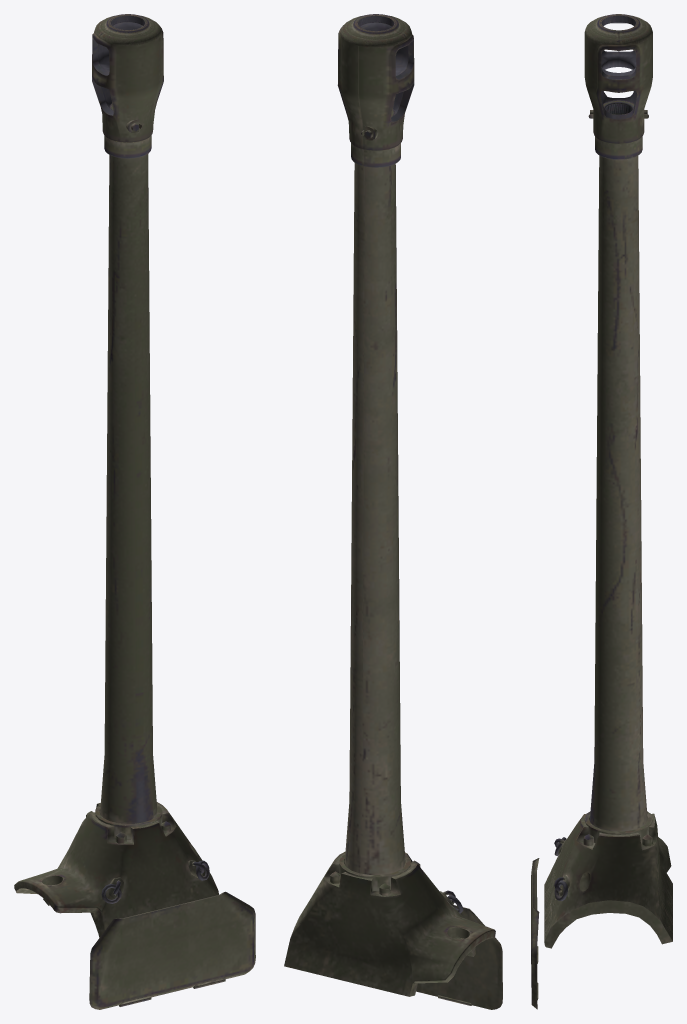
File: Gun_06.glb
3 views of the same model, side by side, from view 1: azimuth 30°, elevation 25°; view 2: azimuth 150°, elevation 25°; view 3: azimuth 270°, elevation 25° (orthographic). The views are drawn at different scales.
Parts seen in each view (by area): view 1: set_0_group_0, set_0_group_1; view 2: set_0_group_0, set_0_group_1; view 3: set_0_group_0, set_0_group_1.
Boxes of the visible parts, x1,y1,x2,y2 form: set_0_group_0: (14,14,218,937); set_0_group_1: (89,891,255,1009); set_0_group_0: (284,14,495,996); set_0_group_1: (416,905,502,1009); set_0_group_0: (544,14,672,948); set_0_group_1: (531,858,539,1009).
Size of the model in its own units: 0.9289 by 4.64 by 0.629.
2 materials, 2 textured.
